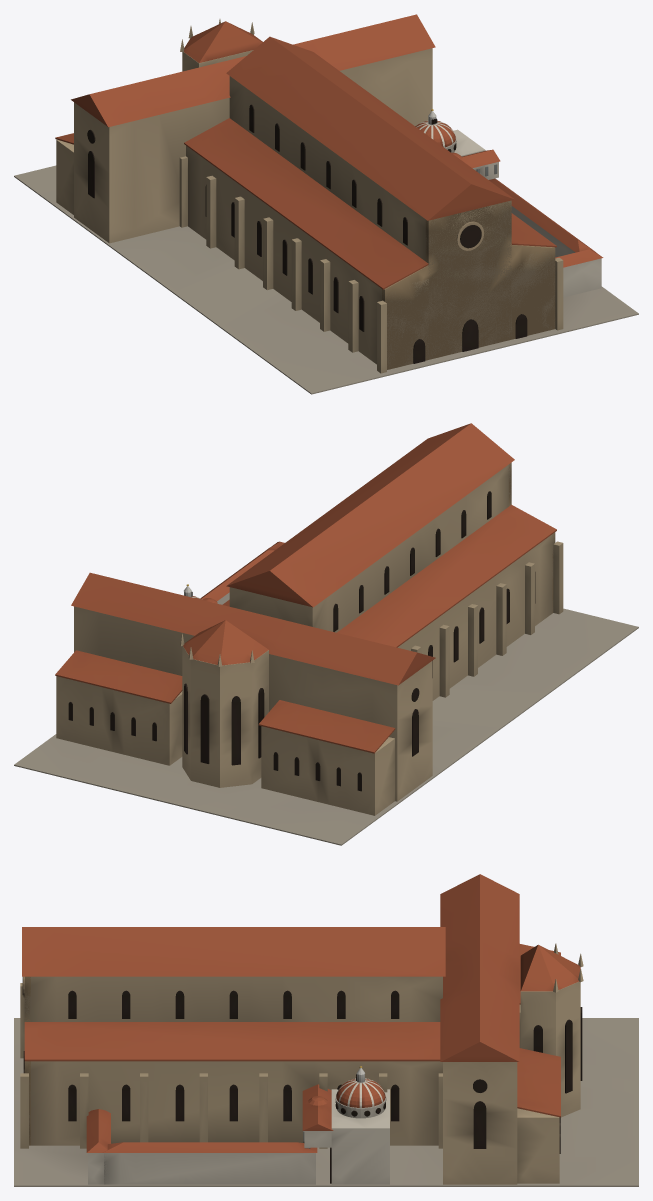
File: santa-croce.glb
3 views of the same model, one above another, from view 1: azimuth 30°, elevation 25°; view 2: azimuth 150°, elevation 25°; view 3: azimuth 270°, elevation 25° (orthographic). The views are drawn at different scales.
Parts seen in each view (by area): view 1: p0_walls, p1_roofs, p2_Pazzi Chapel; view 2: p0_walls, p1_roofs, p2_Pazzi Chapel; view 3: p0_walls, p1_roofs, p2_Pazzi Chapel.
Boxes of the visible parts, x1,y1,x2,y2 form: p0_walls: [14, 19, 638, 394]; p1_roofs: [71, 14, 556, 289]; p2_Pazzi Chapel: [415, 109, 603, 297]; p0_walls: [14, 462, 638, 845]; p1_roofs: [71, 423, 556, 685]; p2_Pazzi Chapel: [184, 541, 284, 604]; p0_walls: [14, 943, 638, 1186]; p1_roofs: [22, 874, 519, 1061]; p2_Pazzi Chapel: [86, 1066, 389, 1184].
Size of the model in its own units: 75.05 by 36.75 by 118.
